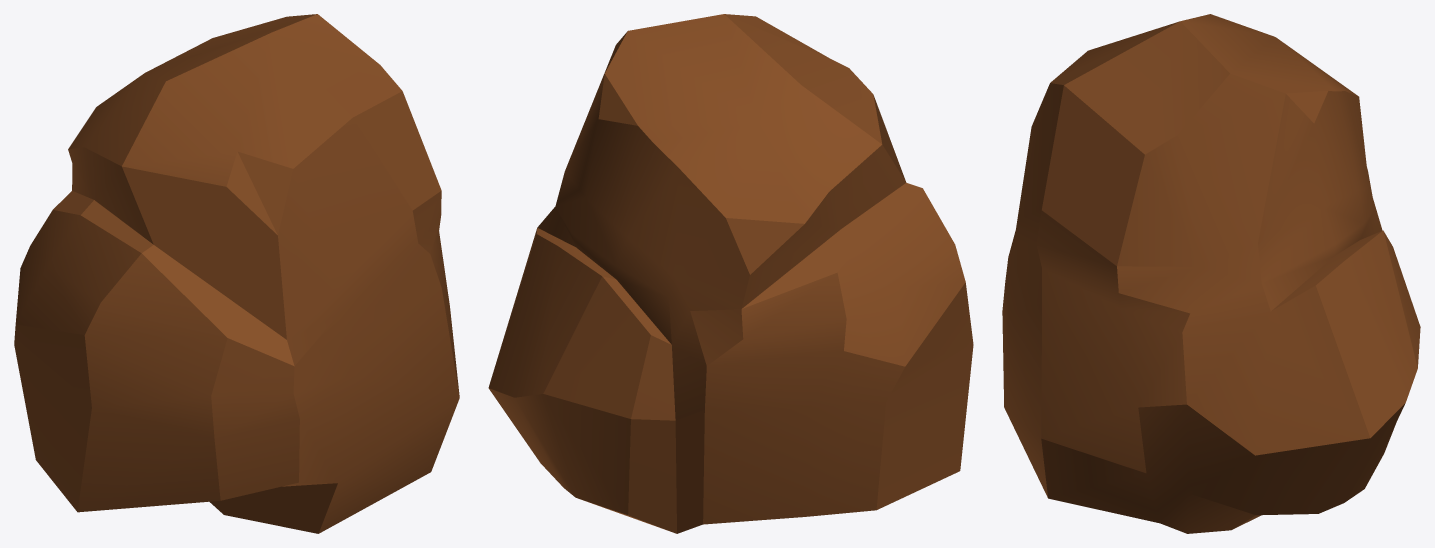
The model's file is cn_r2_1_rock_1_lev4.glb.
3 renders of one model, left to right at view 1: azimuth 30°, elevation 25°; view 2: azimuth 150°, elevation 25°; view 3: azimuth 270°, elevation 25°, orthographic. The views are drawn at different scales.
Parts seen in each view (by area): view 1: cn_r2_1_rock_1_lev4; view 2: cn_r2_1_rock_1_lev4; view 3: cn_r2_1_rock_1_lev4.
Part boxes in pixels (x1=…): cn_r2_1_rock_1_lev4: x1=14, y1=14, x2=459, y2=533; cn_r2_1_rock_1_lev4: x1=488, y1=14, x2=973, y2=533; cn_r2_1_rock_1_lev4: x1=1002, y1=14, x2=1420, y2=533.
Size of the model in its own units: 1.29 by 1.5 by 1.18.
1 material, 1 textured.
